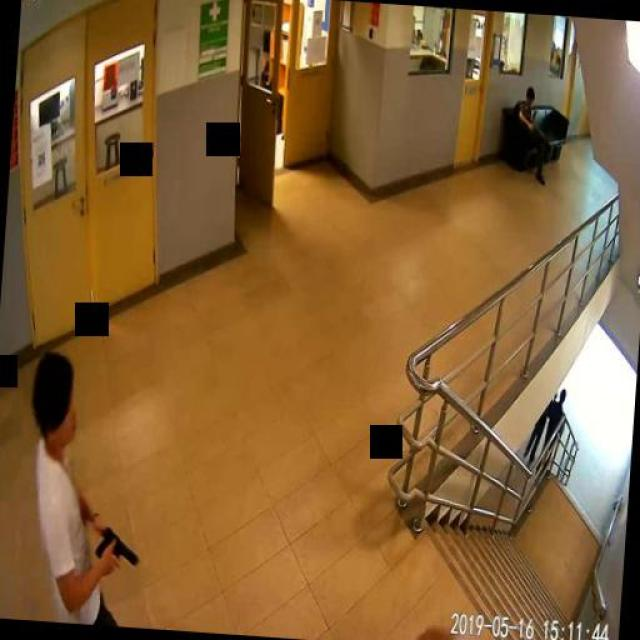gun: (94, 524, 140, 566)
